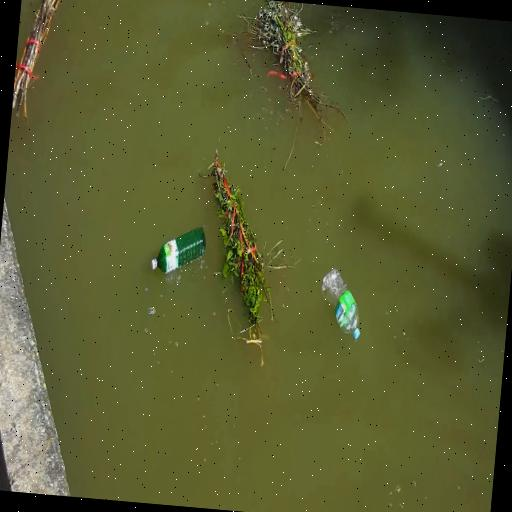plastic: (315, 266, 367, 342), (150, 222, 208, 279)
twig: (195, 158, 289, 346), (243, 0, 345, 126), (12, 0, 72, 119)
